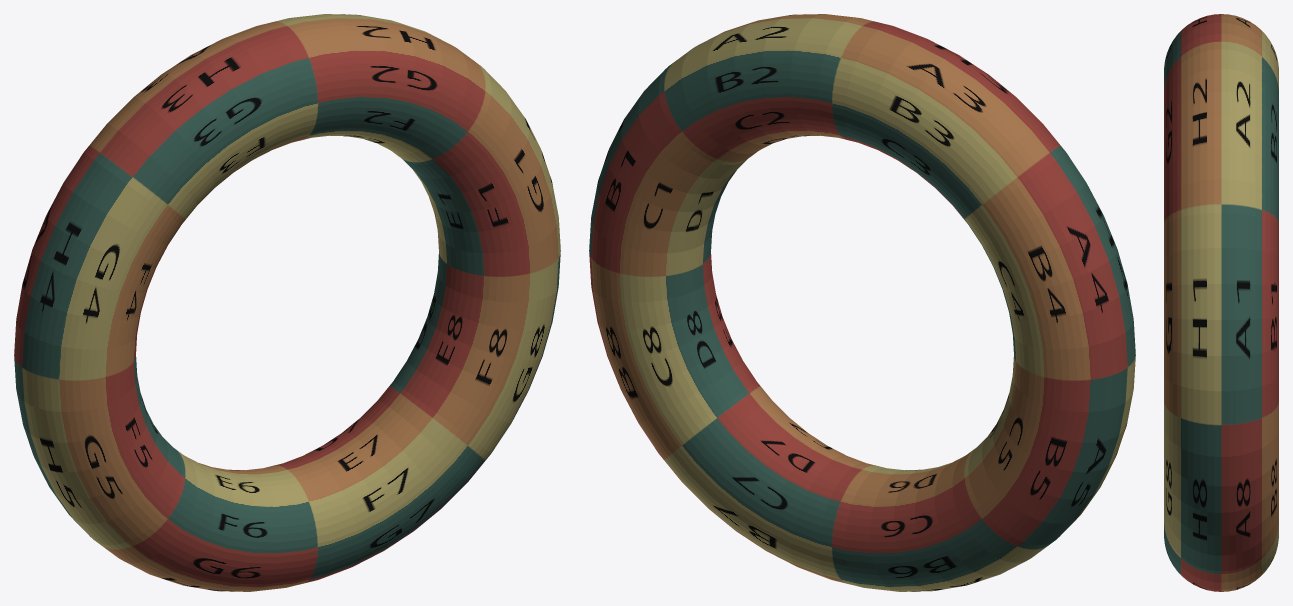
File: texture_torus_R18_r13.glb
3 views of the same model, side by side, from view 1: azimuth 30°, elevation 25°; view 2: azimuth 150°, elevation 25°; view 3: azimuth 270°, elevation 25° (orthographic). The views are drawn at different scales.
Visible parts, largest first — view 1: world; view 2: world; view 3: world.
Part boxes in pixels (x1,y1,x2,y2): world: (14,14,560,591); world: (589,14,1135,591); world: (1164,14,1278,591).
Bounding box in the file's own units: 27.47 × 27.41 × 5.46.
Materials: 1 (1 with a texture image).
